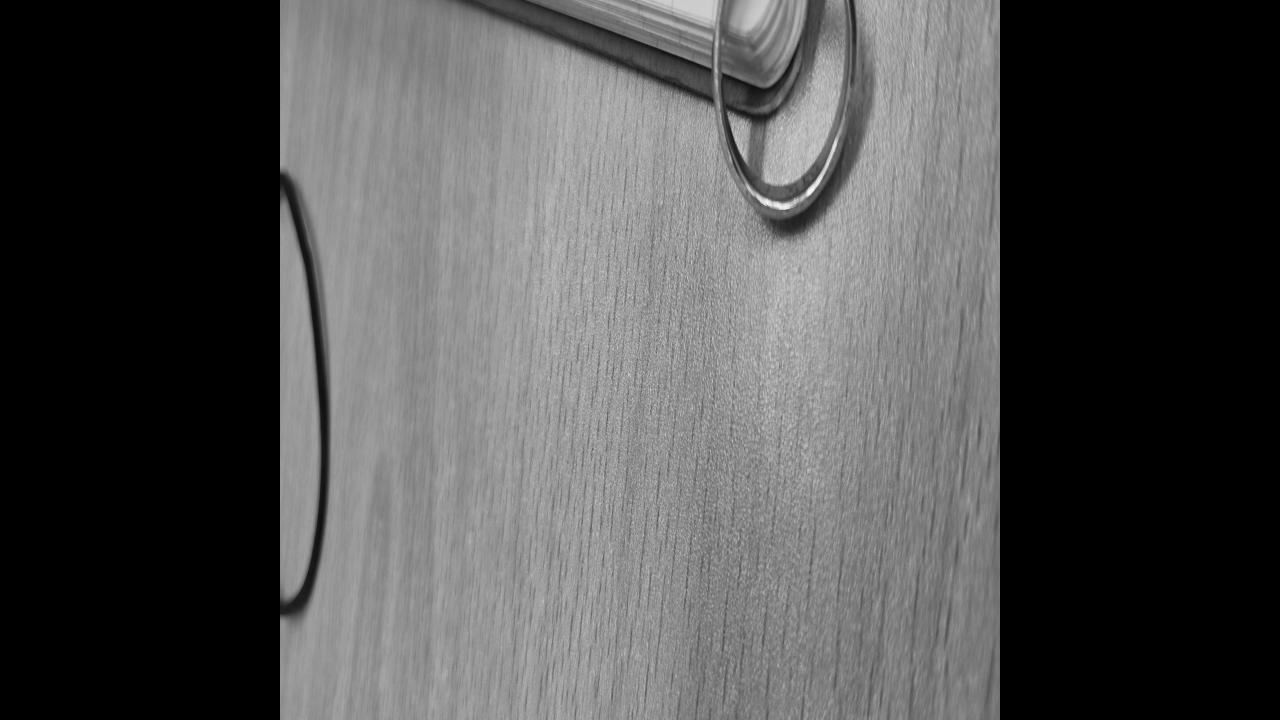ring: (709, 0, 859, 225)
